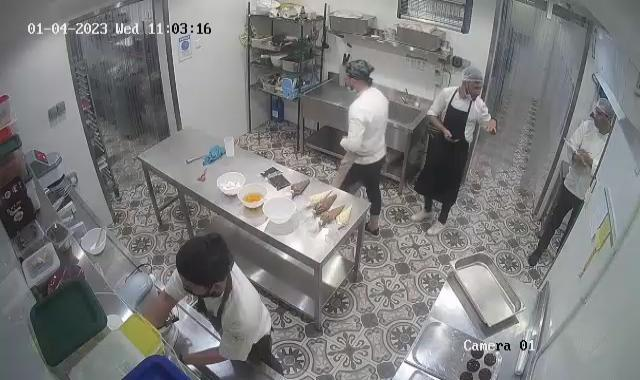hairnet: (461, 67, 485, 91), (594, 99, 616, 123)
no_hairnet: (174, 233, 234, 291), (346, 56, 374, 85)
